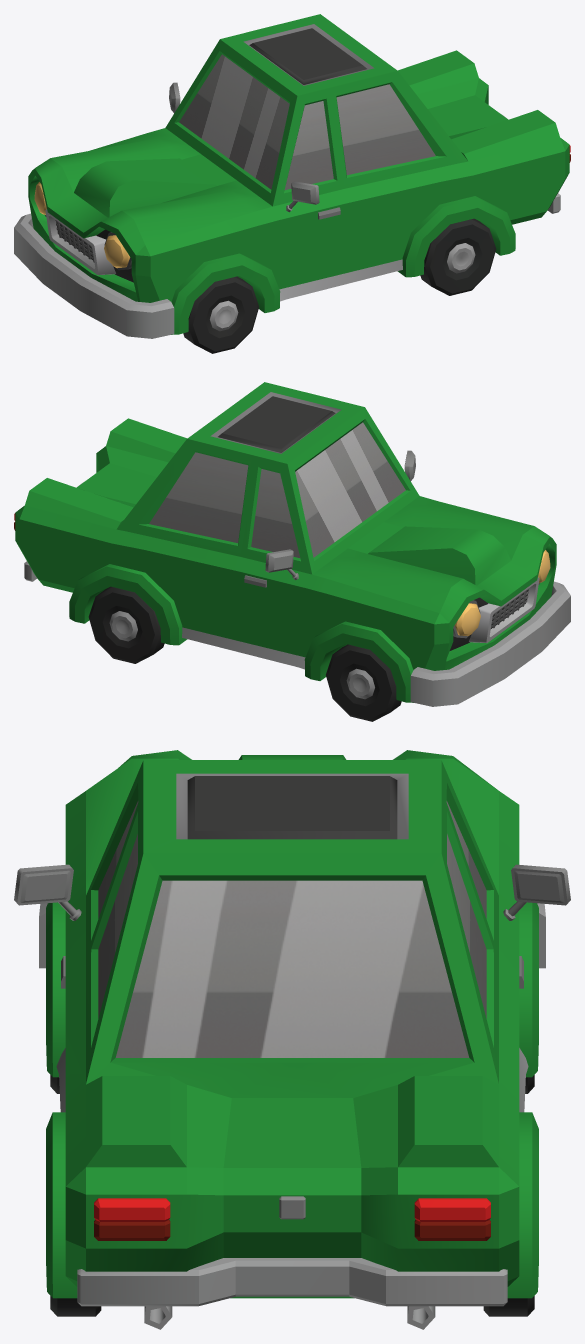
File: Car_17_I.gltf
The picture shows the model from 3 angles, top to bottom: view 1: azimuth 30°, elevation 25°; view 2: azimuth 150°, elevation 25°; view 3: azimuth 270°, elevation 25°; orthographic projection. The views are drawn at different scales.
Visible parts, largest first — view 1: Car_17_I, RL, FL; view 2: Car_17_I, RR, FR; view 3: Car_17_I, RL, RR.
Boxes of the visible parts, x1=… form: Car_17_I: x1=14, y1=14, x2=570, y2=338; RL: x1=420, y1=218, x2=496, y2=295; FL: x1=183, y1=276, x2=258, y2=353; Car_17_I: x1=14, y1=382, x2=570, y2=706; RR: x1=88, y1=586, x2=164, y2=663; FR: x1=326, y1=644, x2=401, y2=721; Car_17_I: x1=14, y1=750, x2=570, y2=1329; RL: x1=50, y1=1296, x2=101, y2=1316; RR: x1=483, y1=1296, x2=534, y2=1316.
Bounding box in the file's own units: 3.39 × 1.53 × 1.85.
4 materials, 4 textured.
